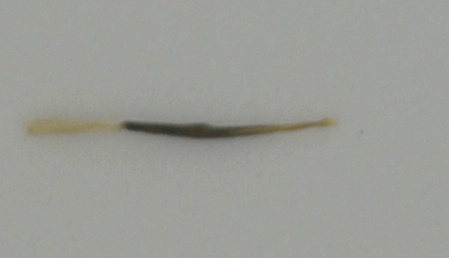เมล็ดงอกแตก: (25, 114, 338, 141)
